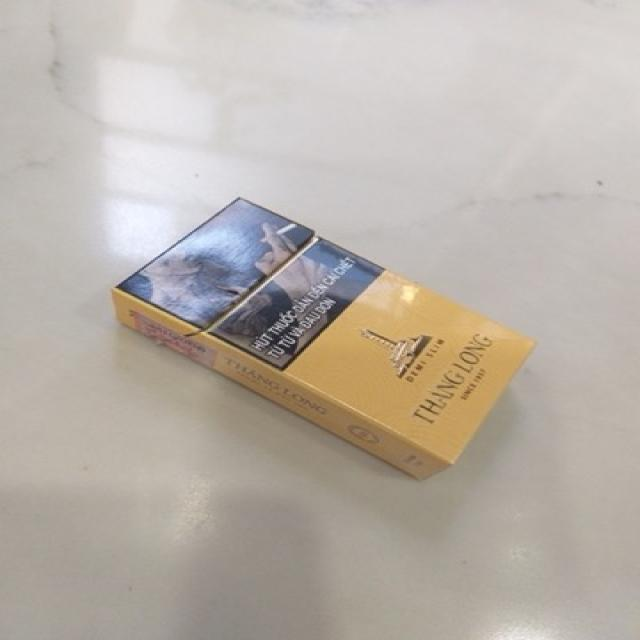PaperCardboard: (114, 196, 536, 482)
